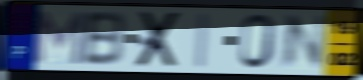0: (238, 12, 278, 70)
B: (81, 10, 127, 68)
I: (191, 11, 213, 70)
M: (32, 9, 87, 67)
N: (277, 14, 329, 72)
X: (133, 10, 184, 69)
